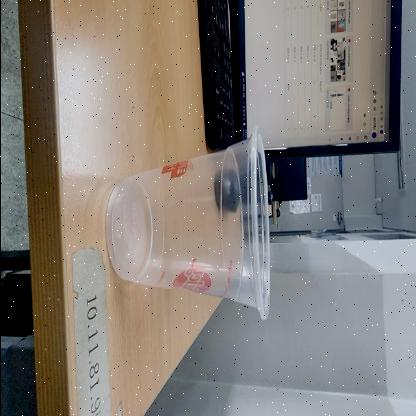Others: (104, 126, 272, 320)
